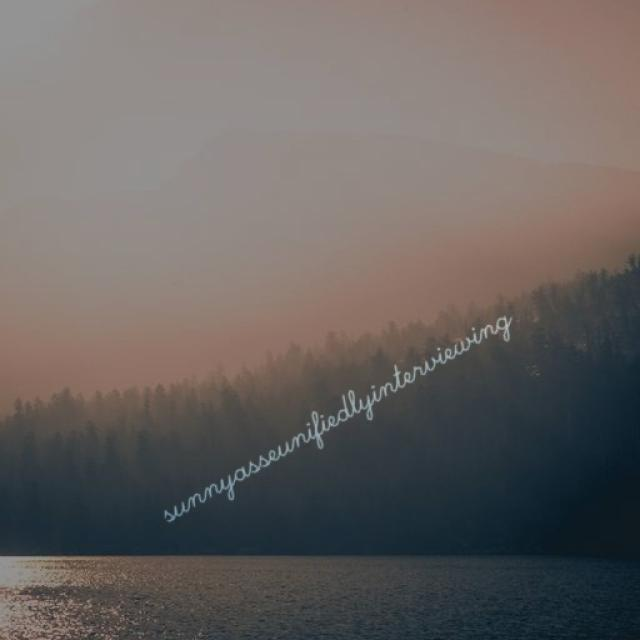watermark: (159, 296, 513, 527)
